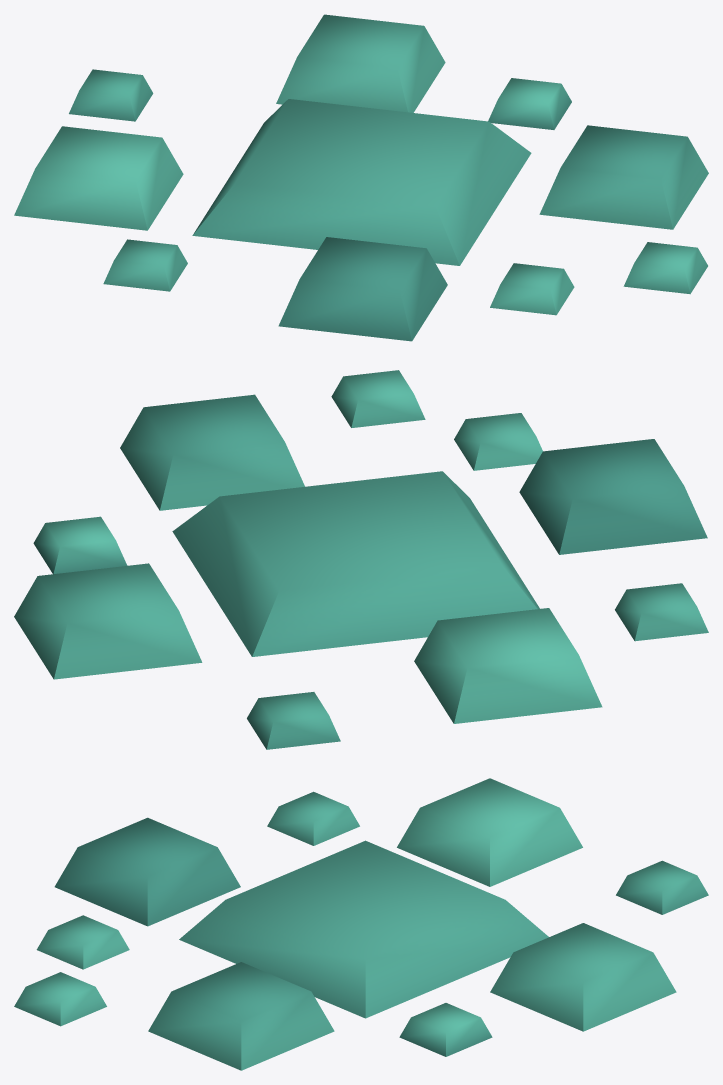
File: stones.glb
3 renders of one model, top to bottom at view 1: azimuth 30°, elevation 25°; view 2: azimuth 150°, elevation 25°; view 3: azimuth 270°, elevation 25°, orthographic. The views are drawn at different scales.
Visible parts, largest first — view 1: stones; view 2: stones; view 3: stones.
Boxes of the visible parts, x1=… form: stones: x1=14, y1=14, x2=708, y2=341; stones: x1=14, y1=370, x2=708, y2=749; stones: x1=14, y1=778, x2=708, y2=1070.
Bounding box in the file's own units: 0.7102 × 0.05 × 0.7897.
